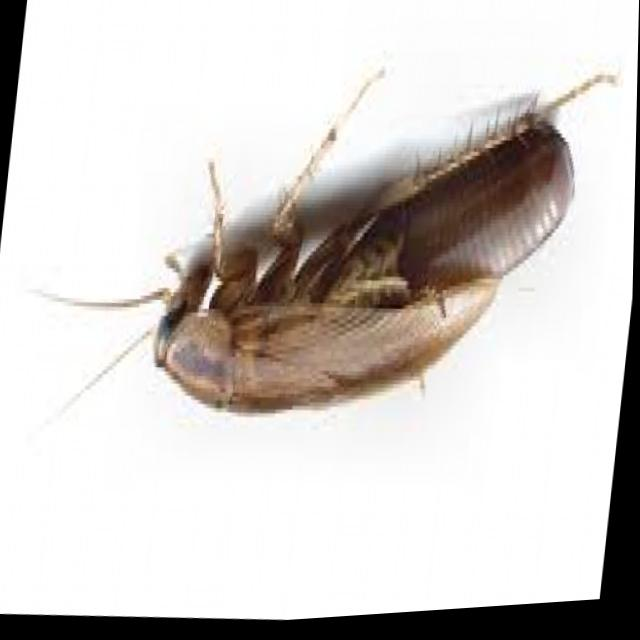Cockroach: (21, 24, 623, 482)
